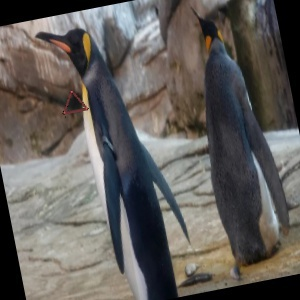triangle: (59, 89, 90, 117)
